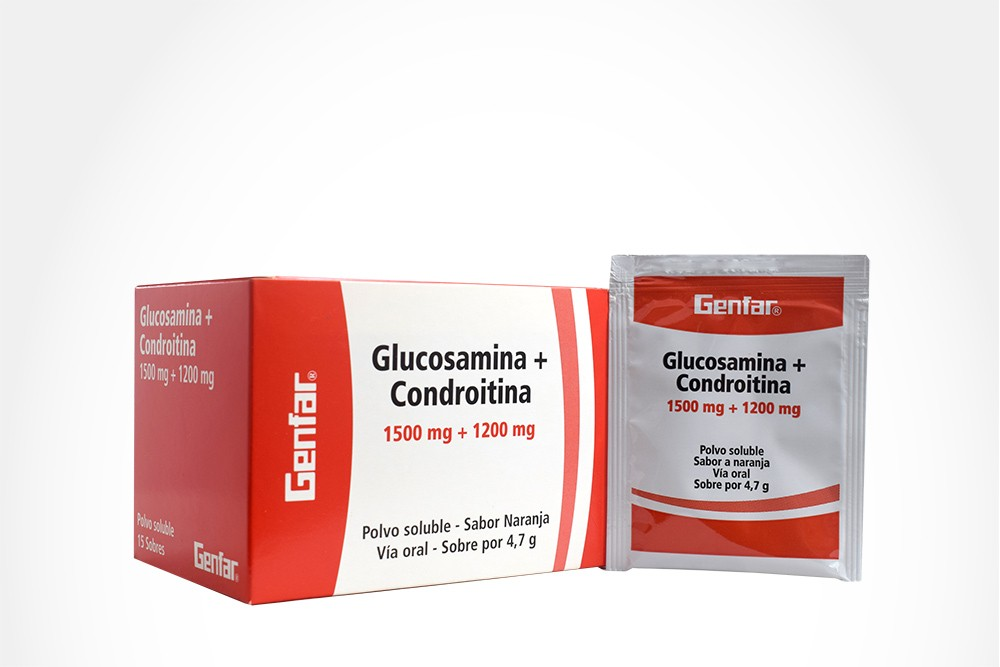Genfar: (250, 281, 606, 607)
